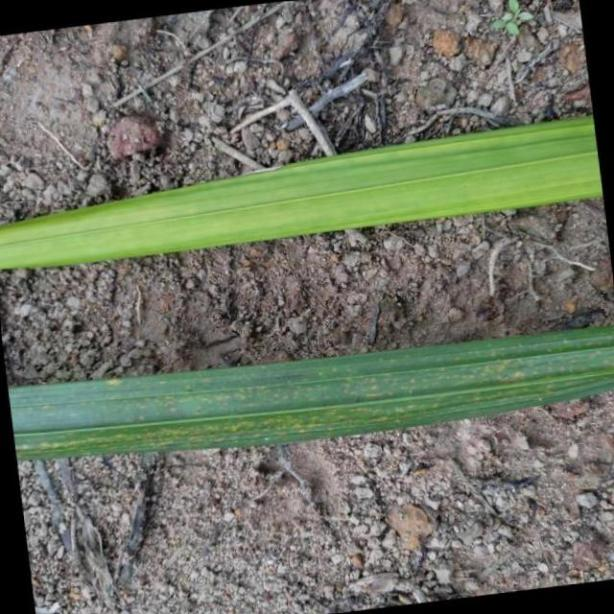nitrogen: (0, 112, 614, 267), (6, 326, 614, 457)
